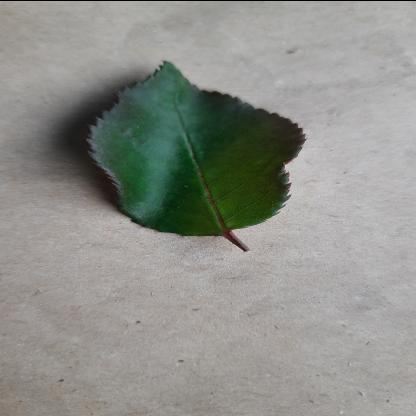normal: (81, 58, 312, 236)
